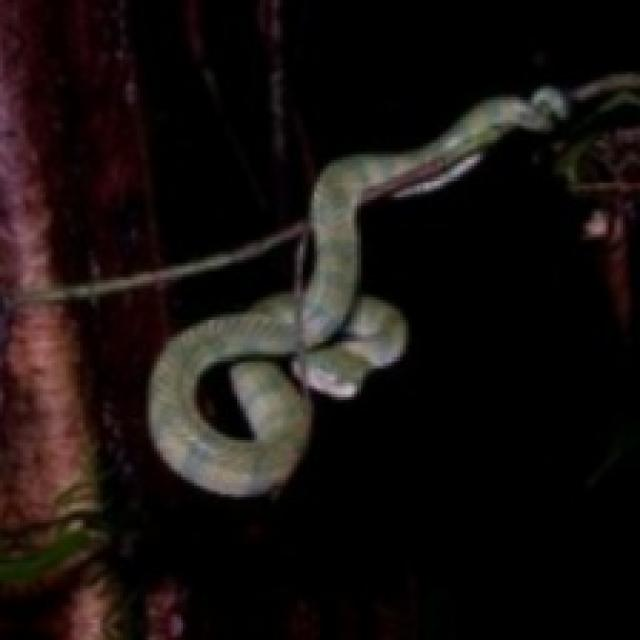north ph temple pitviper: (149, 74, 637, 494)
